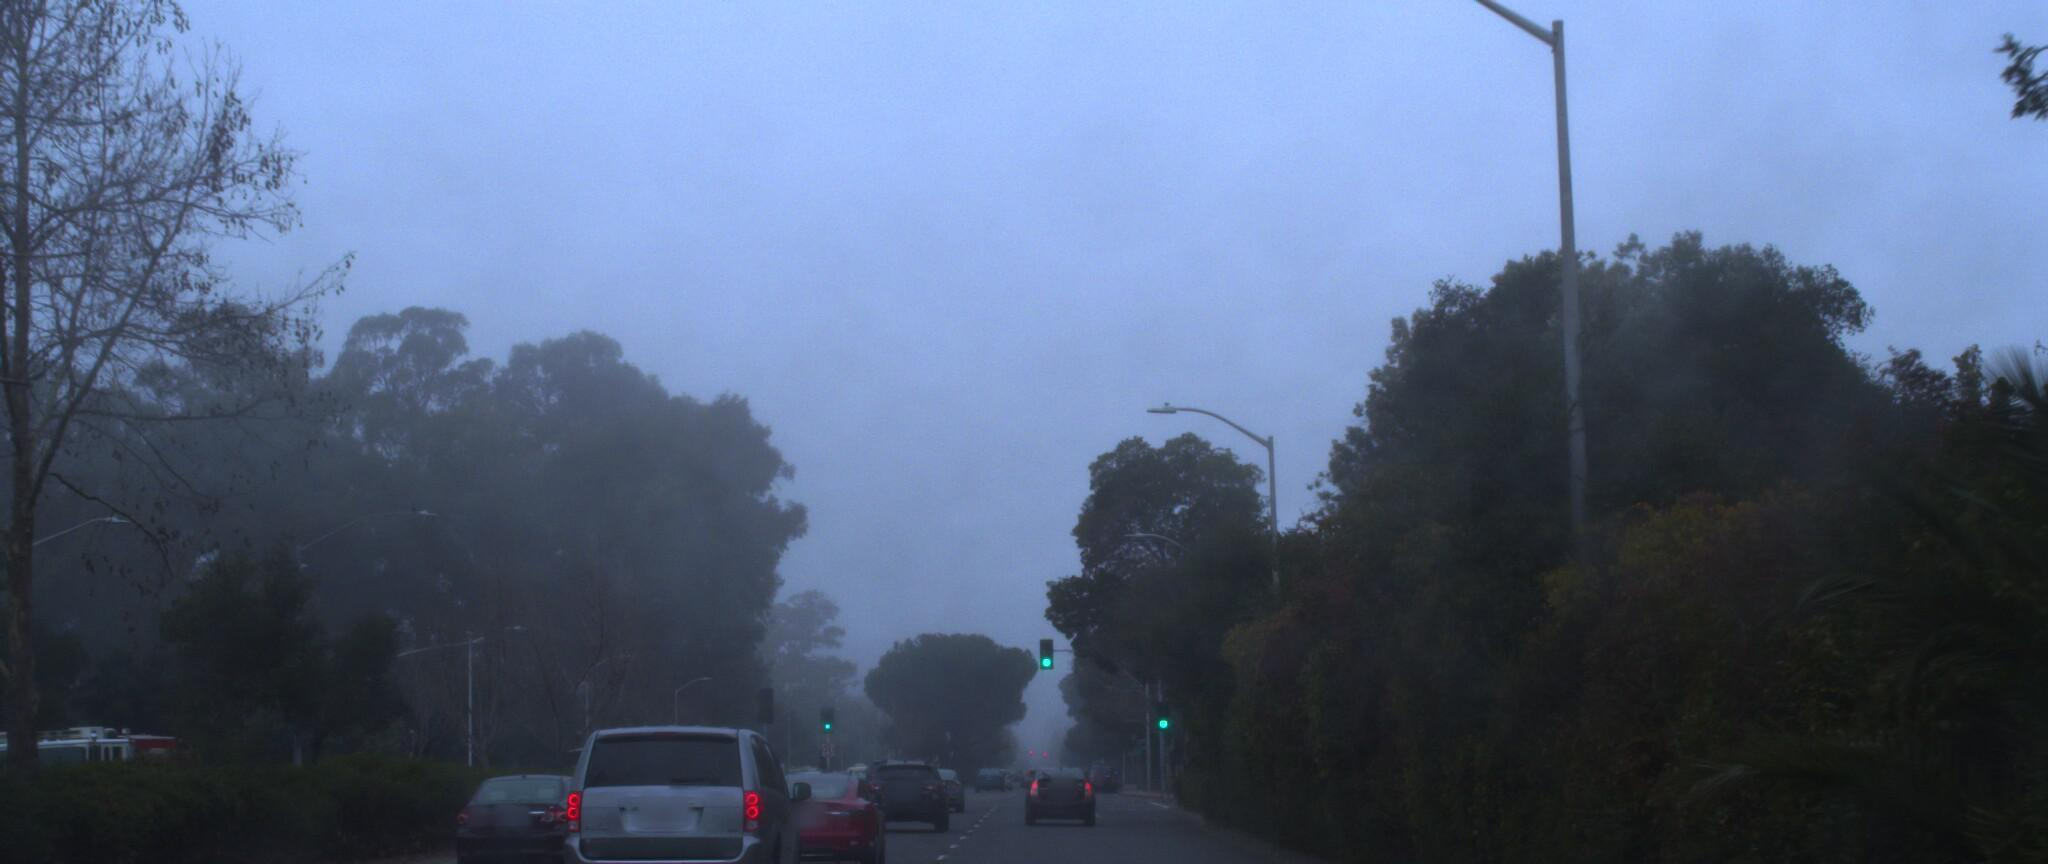car: (522, 713, 807, 864), (434, 762, 613, 864), (747, 754, 900, 861), (865, 743, 953, 820), (1017, 737, 1096, 812)
emergency_vehicle: (0, 717, 223, 850)
